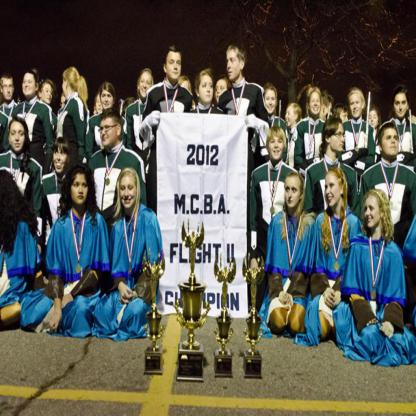face: (121, 177, 138, 209), (325, 174, 340, 207), (382, 128, 399, 157), (73, 175, 89, 205), (365, 197, 380, 229), (100, 120, 117, 148), (286, 177, 301, 208), (10, 122, 26, 151), (227, 51, 241, 80), (331, 124, 345, 153), (54, 146, 68, 174), (168, 52, 182, 80), (200, 75, 214, 102), (270, 137, 284, 162), (140, 73, 153, 98), (395, 94, 408, 119), (23, 73, 36, 96), (351, 94, 363, 118), (216, 81, 228, 104), (101, 90, 114, 111), (266, 90, 277, 114), (310, 92, 321, 115), (3, 80, 14, 100), (43, 83, 53, 104), (340, 110, 350, 131), (286, 107, 295, 127), (369, 111, 379, 129), (324, 102, 332, 124), (97, 95, 106, 113), (63, 78, 68, 97), (94, 105, 100, 118), (62, 97, 67, 111)
